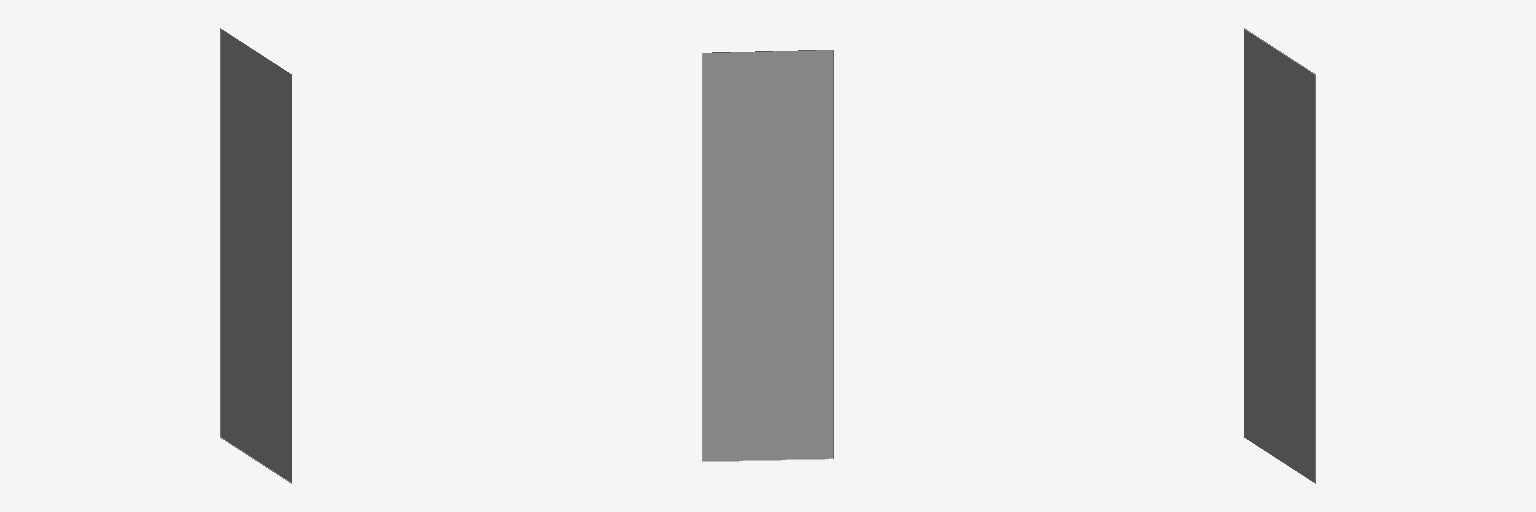
File: doorin2.obj
The picture shows the model from 3 angles: view 1: azimuth 90°, elevation 25°; view 2: azimuth 150°, elevation 25°; view 3: azimuth 270°, elevation 25°; orthographic projection.
Visible parts, largest first — view 1: group_2.008_ID40; view 2: group_2.008_ID40; view 3: group_2.008_ID40.
Part boxes in pixels (x1,y1,x2,y2): group_2.008_ID40: (220,28,291,483); group_2.008_ID40: (702,50,833,461); group_2.008_ID40: (1244,28,1315,483).
Size of the model in its own units: 0.1048 by 0.4268 by 0.0685.